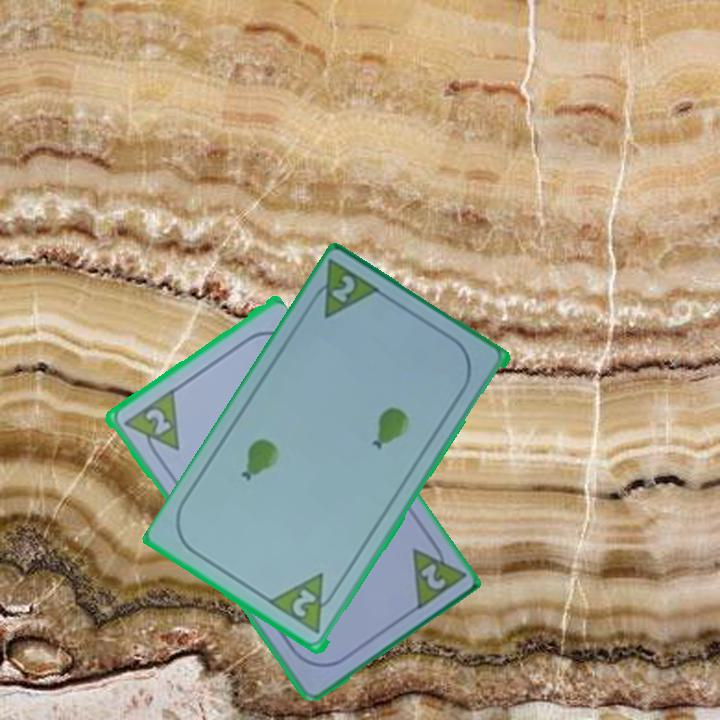2p: (304, 257, 386, 323), (407, 532, 467, 614), (140, 404, 173, 438), (288, 586, 319, 621)
